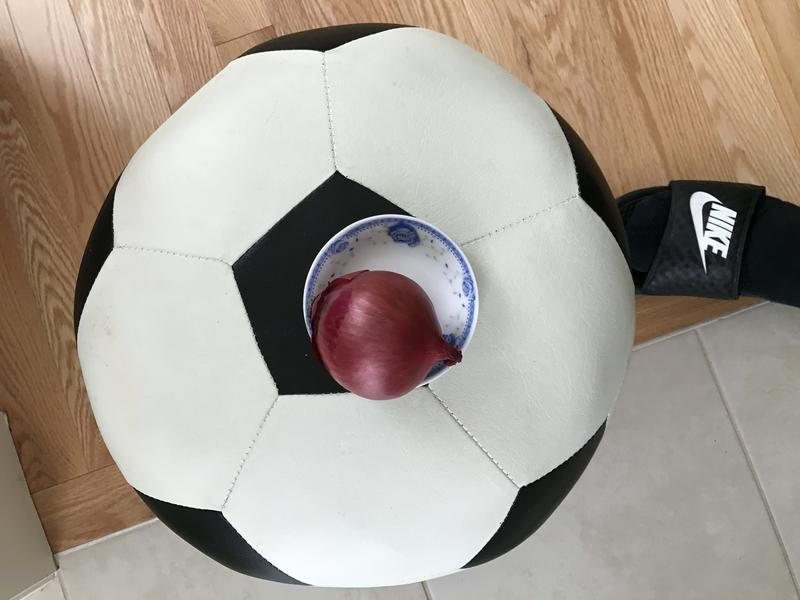purple_onion: (304, 270, 474, 406)
